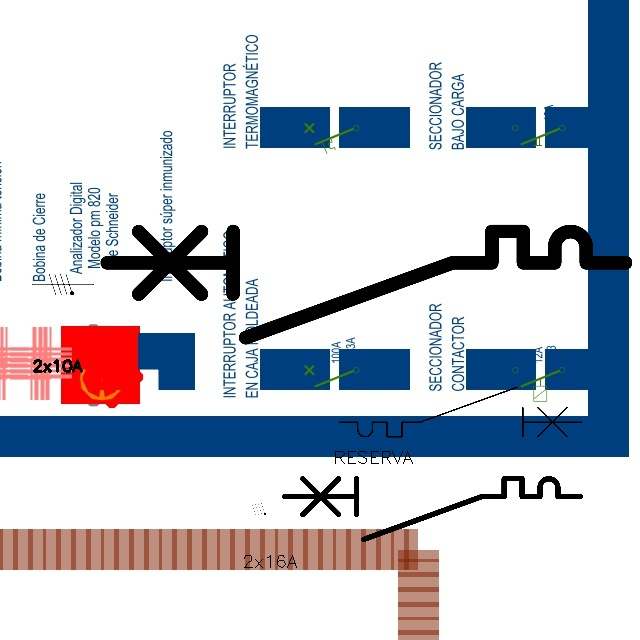interruptor_termomagnetico: (93, 218, 638, 351), (277, 471, 587, 547), (333, 381, 588, 443)
